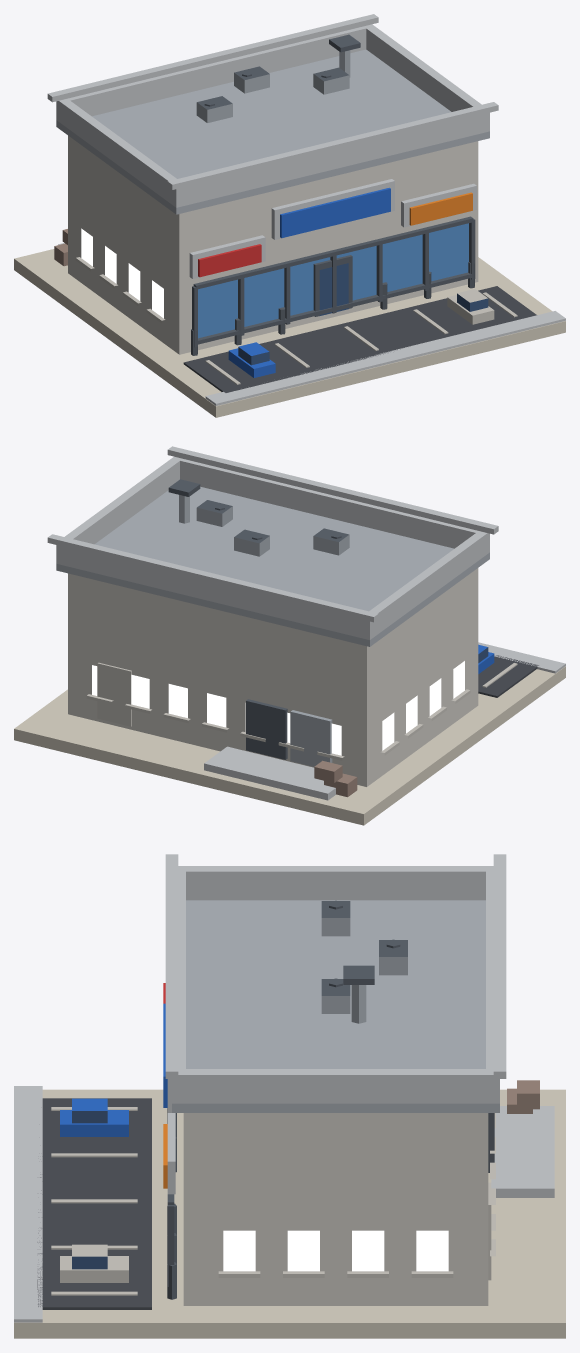
3 renders of one model, top to bottom at view 1: azimuth 30°, elevation 25°; view 2: azimuth 150°, elevation 25°; view 3: azimuth 270°, elevation 25°, orthographic. The views are drawn at different scales.
Visible parts, largest first — view 1: b19_v2; view 2: b19_v2; view 3: b19_v2.
Boxes of the visible parts, bbox=[...] form: b19_v2: bbox=[14, 14, 565, 417]; b19_v2: bbox=[14, 446, 565, 825]; b19_v2: bbox=[14, 854, 565, 1338].
Size of the model in its own units: 0.96 by 0.582 by 0.96.
